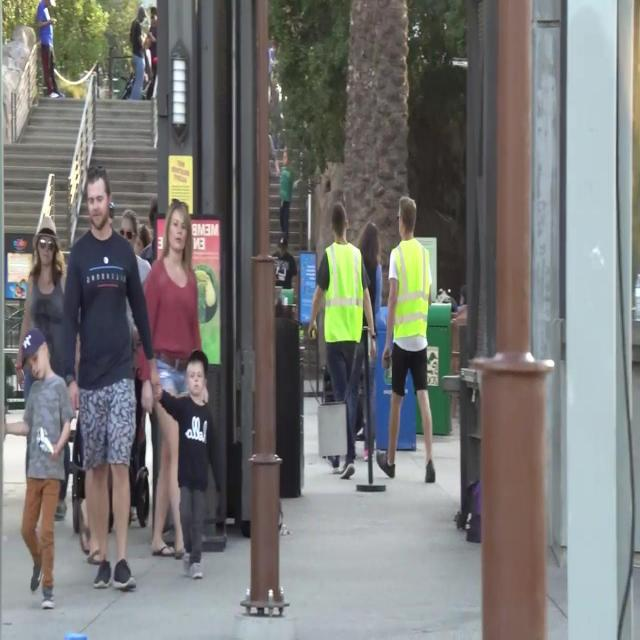Reflective-Jacket: (386, 238, 434, 354), (320, 240, 366, 351)
